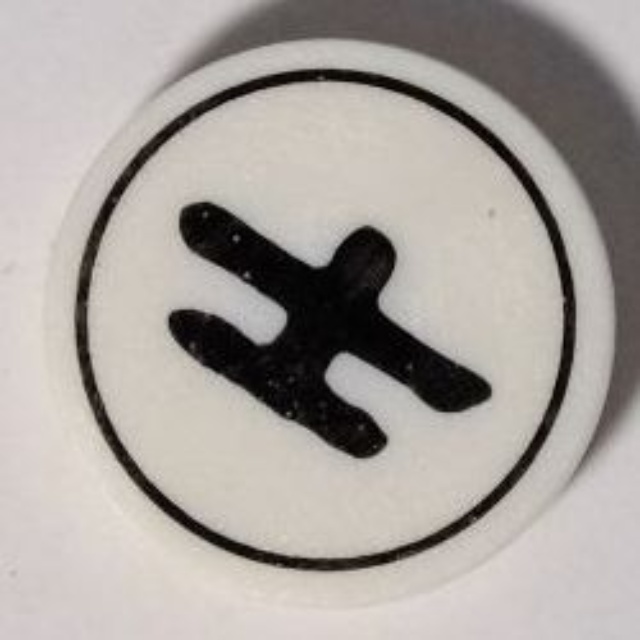black_si: (39, 35, 620, 610)
